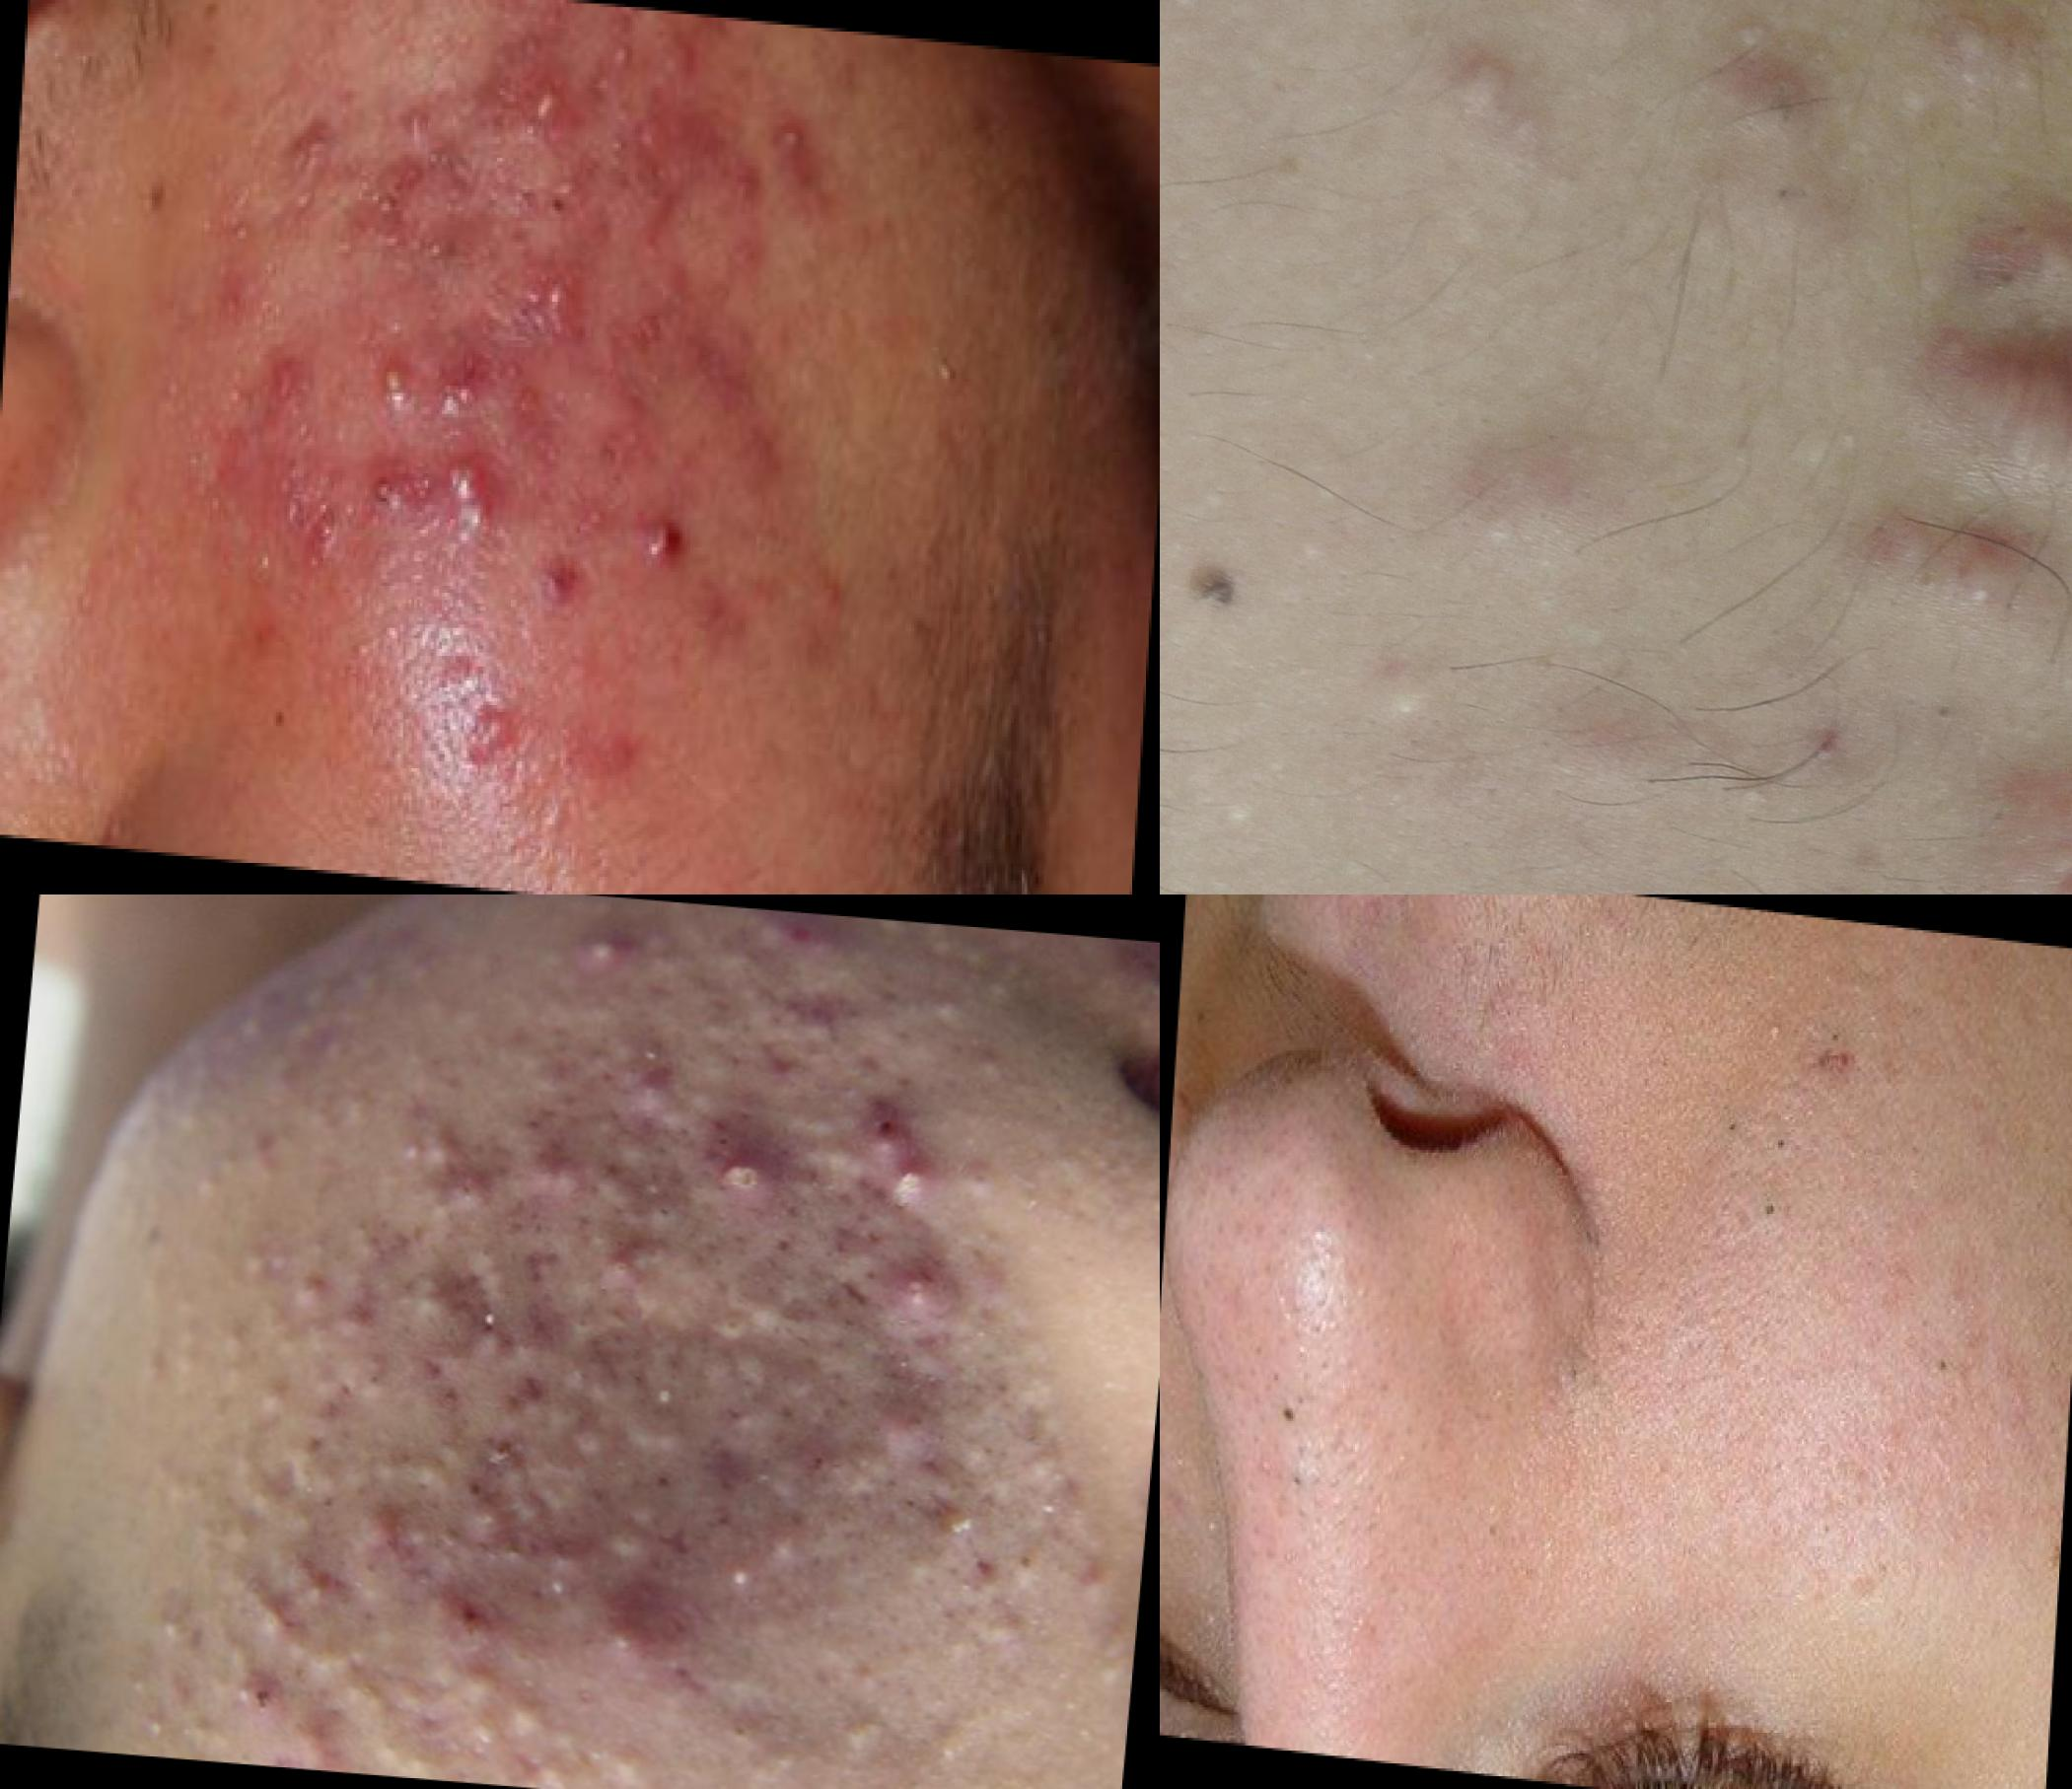blackhead: (1875, 1280, 1977, 1422), (1706, 1096, 1809, 1236), (1549, 1128, 1624, 1281), (1258, 1371, 1325, 1523), (1468, 1452, 1533, 1602), (1524, 1315, 1602, 1414), (1806, 1001, 1869, 1072)
keloid: (1905, 315, 2072, 518)
milium: (1748, 998, 1792, 1063)
papular: (1839, 488, 2072, 672), (1683, 28, 1846, 197), (259, 1204, 386, 1347), (1334, 642, 1468, 765), (238, 1533, 328, 1644), (692, 1426, 796, 1509), (500, 1130, 590, 1206), (428, 1577, 514, 1655), (601, 1049, 677, 1132), (874, 1385, 927, 1458)
purulent: (1427, 37, 1542, 143), (592, 1592, 685, 1680), (497, 48, 576, 148), (518, 247, 601, 330), (698, 1137, 789, 1211), (633, 495, 703, 583), (883, 1257, 946, 1318), (564, 918, 633, 973), (597, 28, 648, 100), (772, 100, 816, 169), (1533, 2, 1624, 33), (888, 1144, 927, 1202)
sebo-crystan-conglo: (435, 675, 550, 788), (430, 291, 506, 437), (347, 330, 425, 453), (433, 451, 506, 560), (227, 1655, 291, 1733), (446, 1229, 511, 1281), (352, 1338, 400, 1407)
whitehead: (435, 1652, 566, 1763), (342, 1422, 477, 1505), (944, 1093, 1031, 1207), (701, 1696, 796, 1789), (141, 1063, 224, 1167), (285, 1636, 382, 1715), (143, 1283, 211, 1394), (906, 966, 981, 1052), (384, 1110, 472, 1183), (574, 1503, 662, 1576), (178, 1133, 257, 1213), (691, 1530, 777, 1602), (770, 985, 849, 1058), (143, 1440, 211, 1516), (879, 1537, 948, 1604), (622, 1396, 692, 1459), (832, 1696, 881, 1780), (707, 1290, 763, 1361), (338, 1544, 403, 1604), (629, 1190, 698, 1241), (925, 927, 1010, 966), (557, 1295, 617, 1347), (944, 1382, 992, 1445), (252, 1371, 300, 1435), (1068, 1533, 1106, 1611), (995, 1526, 1038, 1585), (428, 1505, 463, 1570), (1013, 1452, 1068, 1493)
